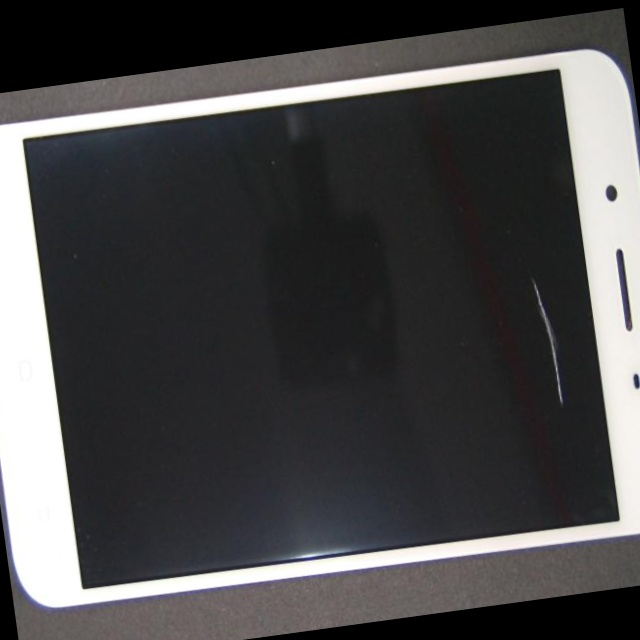scratch: (238, 95, 640, 418)
